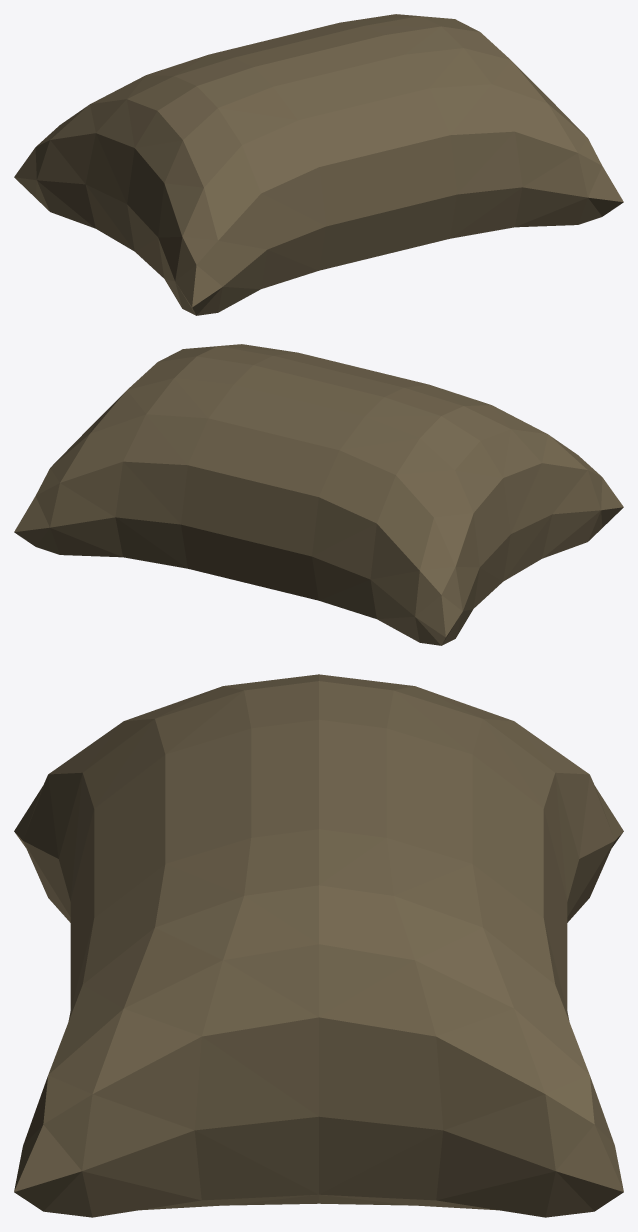
Rendered from bag.glb.
The picture shows the model from 3 angles, top to bottom: view 1: azimuth 30°, elevation 25°; view 2: azimuth 150°, elevation 25°; view 3: azimuth 270°, elevation 25°; orthographic projection. The views are drawn at different scales.
Visible parts, largest first — view 1: Bag; view 2: Bag; view 3: Bag.
Boxes of the visible parts, x1,y1,x2,y2 form: Bag: (14, 14, 623, 315); Bag: (14, 344, 623, 645); Bag: (14, 674, 623, 1217).
Size of the model in its own units: 0.1535 by 0.0584 by 0.1096.
